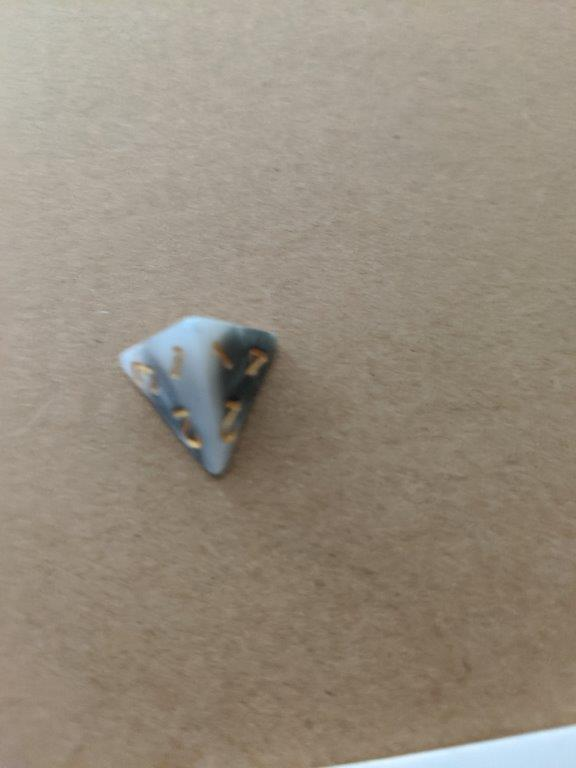d4-1: (113, 313, 284, 483)
